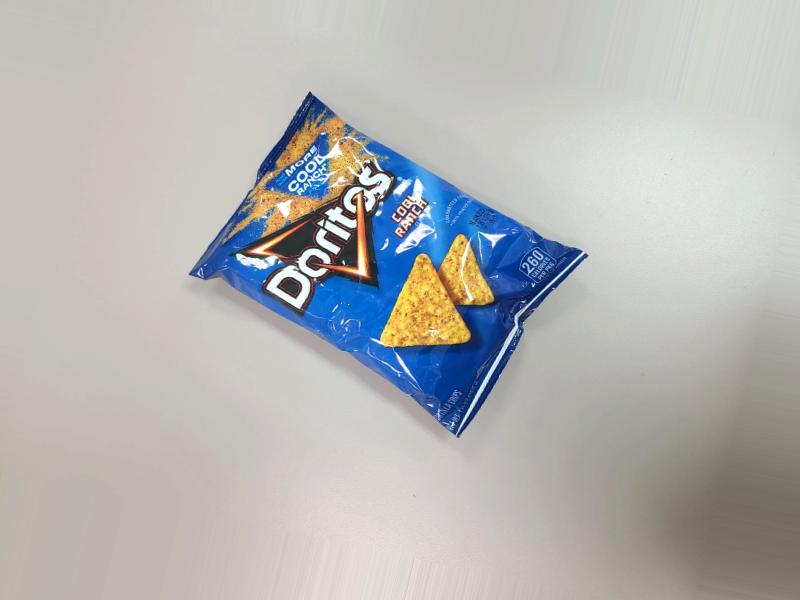doritos: (182, 87, 603, 464)
